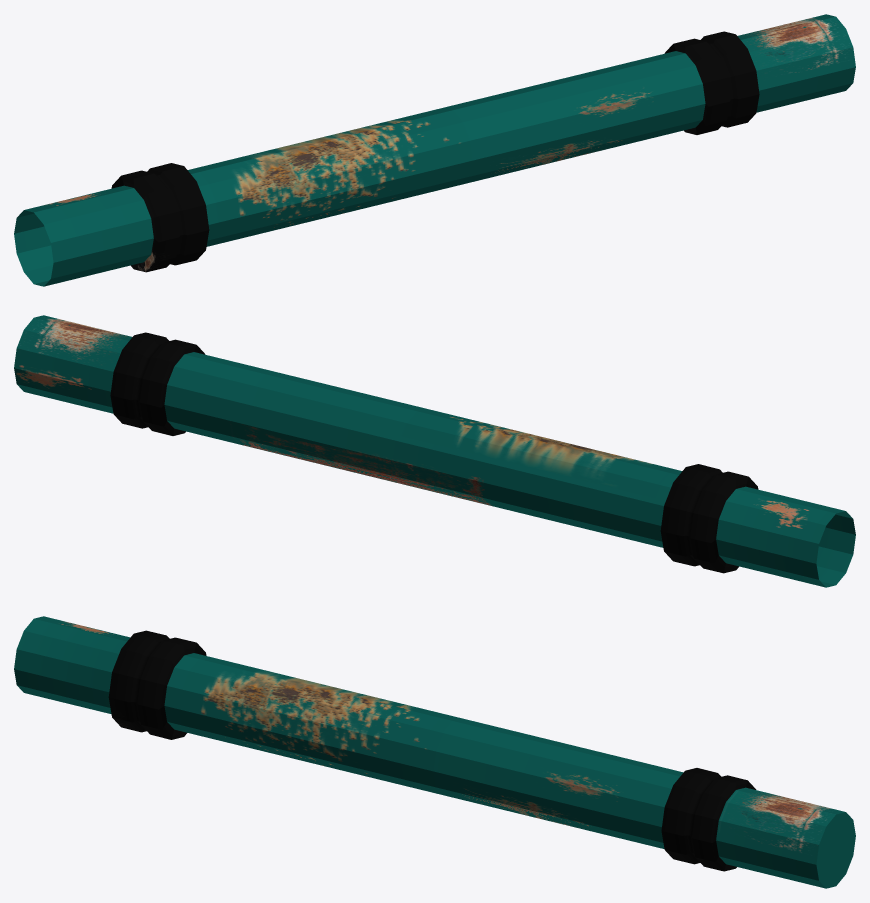
Rendered from pipe1.fbx.
3 renders of one model, top to bottom at view 1: azimuth 30°, elevation 25°; view 2: azimuth 150°, elevation 25°; view 3: azimuth 330°, elevation 25°, orthographic.
Parts seen in each view (by area): view 1: Straight_Pipe; view 2: Straight_Pipe; view 3: Straight_Pipe.
Boxes of the visible parts, box(x1,y1,x2,y2) form: Straight_Pipe: box(14, 14, 855, 286); Straight_Pipe: box(14, 315, 855, 587); Straight_Pipe: box(14, 616, 855, 888).
Bounding box in the file's own units: 37.25 × 4.05 × 4.05.
Materials: 2 (2 with a texture image).
